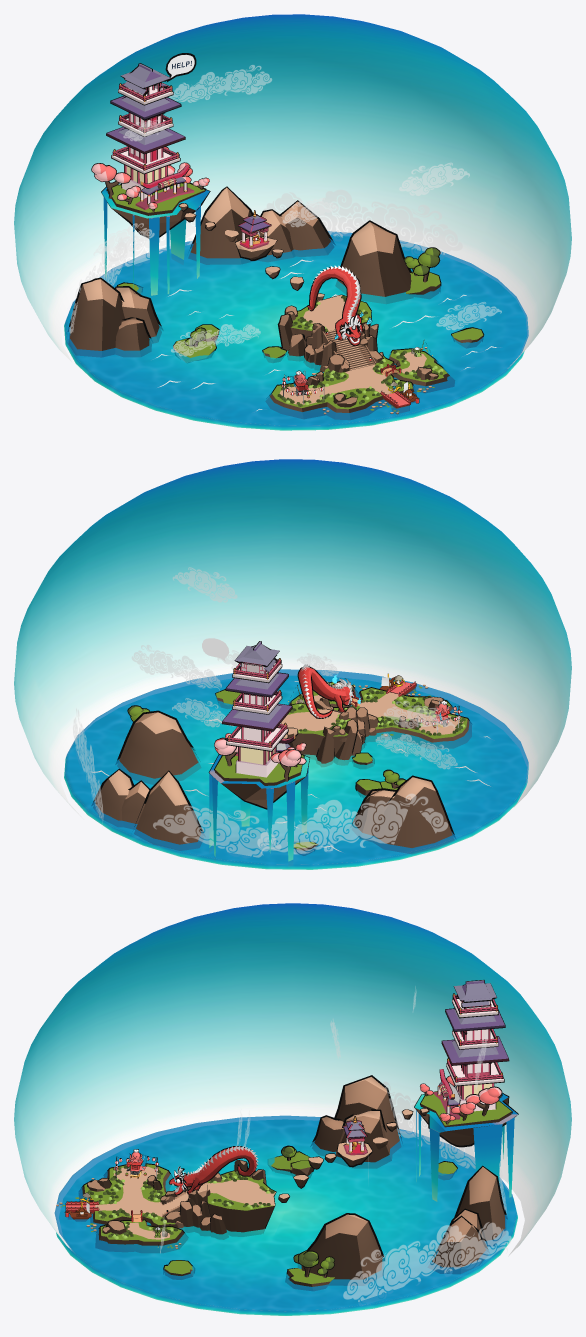
The picture shows the model from 3 angles, top to bottom: view 1: azimuth 30°, elevation 25°; view 2: azimuth 150°, elevation 25°; view 3: azimuth 270°, elevation 25°; orthographic projection.
Parts seen in each view (by area): view 1: Dome_geo1, Water_geo, Caustic_geo, Outlines_geo, pPlane8, pCube133, pCube149, pCube136, polySurface193, polySurface1050, Castelo_toras_grp, pPlane4 (+24 smaller); view 2: Dome_geo1, Water_geo, Caustic_geo, Outlines_geo, pPlane9, pCube149, pCube133, pCube136, pPlane10, Castelo_toras_grp, polySurface1050, polySurface193 (+19 smaller); view 3: Dome_geo1, Water_geo, Caustic_geo, Outlines_geo, pPlane8, pCube133, polySurface1050, pCube136, pCube149, polySurface155, pCube153, Castelo_toras_grp (+14 smaller).
Boxes of the visible parts, box(x1,y1,x2,y2) form: Dome_geo1: box(14, 14, 571, 368); Water_geo: box(64, 231, 528, 430); Caustic_geo: box(64, 235, 526, 430); Outlines_geo: box(68, 63, 484, 407); pPlane8: box(263, 189, 462, 254); pCube133: box(335, 222, 413, 303); pCube149: box(69, 279, 125, 357); pCube136: box(189, 187, 252, 264); polySurface193: box(266, 356, 416, 419); polySurface1050: box(101, 183, 209, 236); Castelo_toras_grp: box(113, 83, 178, 198); pPlane4: box(169, 65, 271, 102); Dome_geo1: box(14, 459, 571, 819); Water_geo: box(64, 669, 528, 869); Caustic_geo: box(64, 676, 526, 869); Outlines_geo: box(92, 641, 471, 850); pPlane9: box(257, 793, 447, 854); pCube149: box(373, 777, 454, 853); pCube133: box(117, 712, 200, 784); pCube136: box(134, 771, 202, 850); pPlane10: box(153, 805, 281, 857); Castelo_toras_grp: box(228, 658, 286, 777); polySurface1050: box(209, 754, 309, 808); polySurface193: box(334, 688, 471, 748); Dome_geo1: box(14, 903, 571, 1256); Water_geo: box(54, 1115, 517, 1315); Caustic_geo: box(56, 1119, 517, 1315); Outlines_geo: box(65, 980, 518, 1281); pPlane8: box(343, 1222, 511, 1301); pCube133: box(298, 1214, 383, 1285); polySurface1050: box(414, 1091, 517, 1145); pCube136: box(457, 1167, 505, 1246); pCube149: box(336, 1077, 400, 1153); polySurface155: box(207, 1171, 275, 1236); pCube153: box(430, 1217, 487, 1273); Castelo_toras_grp: box(447, 994, 502, 1111).
Size of the model in its own units: 103 by 58.89 by 103.
78 materials, 5 textured.
